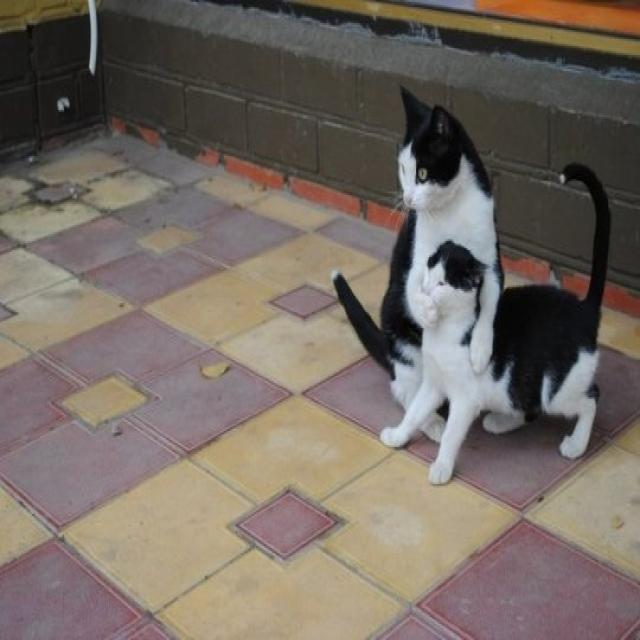cat: (373, 220, 625, 475), (380, 90, 512, 254)
